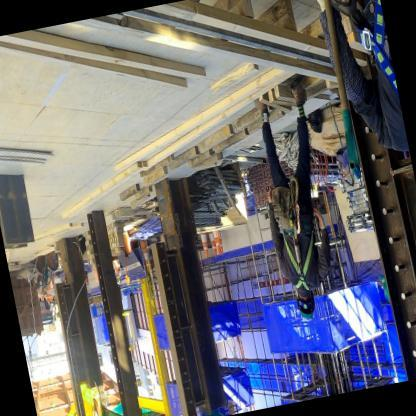safety-shoe: (288, 74, 316, 113)
